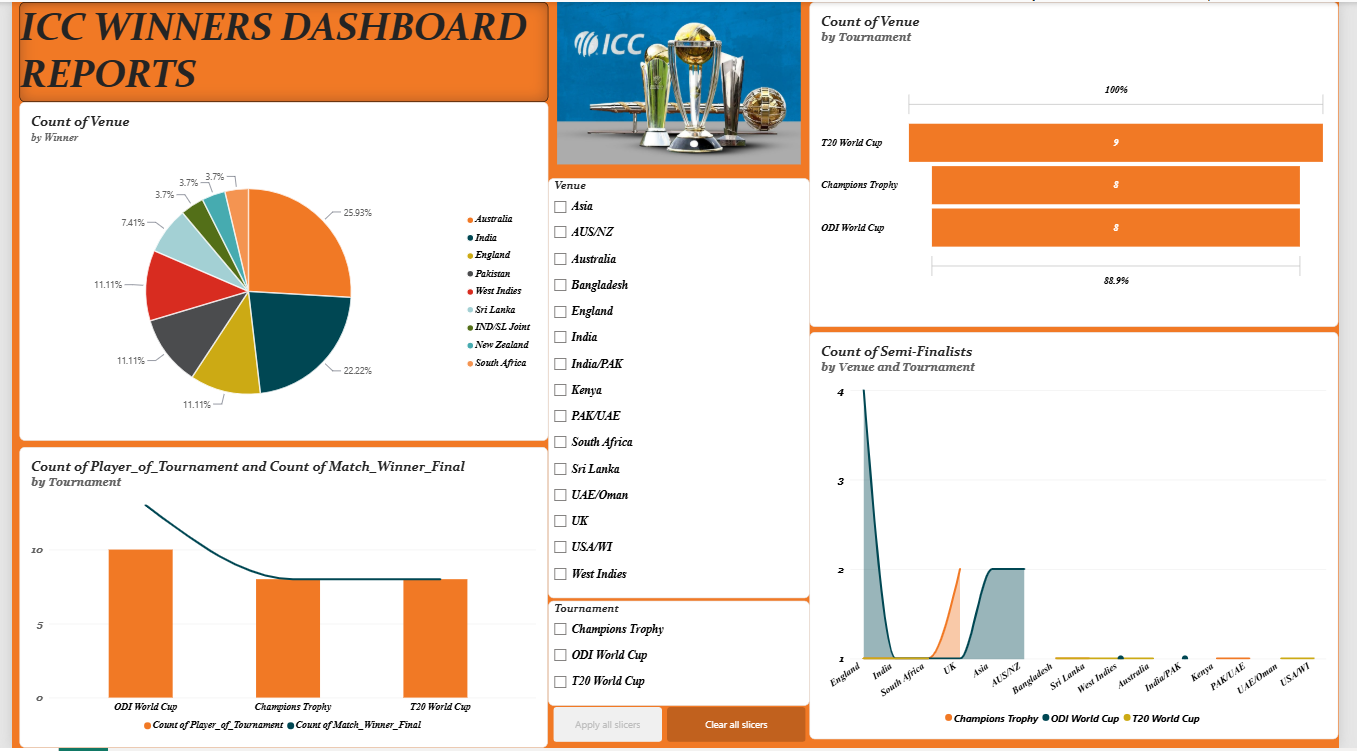

What the dashboard file says about the page in this screenshot:
{"tool":"powerbi","page":{"name":"Page 1","canvas":[1920,1080],"ordinal":0},"visuals":[{"type":"textbox","box":[10.9,0,765.5,144.8],"z":0},{"type":"funnel","fields":{"Category":["Sheet1.Tournament"],"Y":["Count(Sheet1.Venue)"]},"box":[1154.6,0,765.5,470.5],"z":1000},{"type":"image","box":[776.3,0,378.2,235.3],"z":1001},{"type":"pieChart","fields":{"Category":["Sheet1.Winner"],"Y":["Count(Sheet1.Venue)"]},"box":[10.9,144.8,765.5,490.4],"z":1002},{"type":"lineStackedColumnComboChart","fields":{"Category":["Sheet1.Tournament"],"Y":["Count(Sheet1.Player_of_Tournament)"],"Y2":["Count(Sheet1.Match_Winner_Final)"]},"box":[11,645,765,435],"z":1003},{"type":"areaChart","fields":{"Category":["Sheet1.Venue"],"Series":["Sheet1.Tournament"],"Y":["CountNonNull(Sheet1.Semi-Finalists)"]},"box":[1154.5,477.8,765.5,589.9],"z":1004},{"type":"slicer","fields":{"Values":["Sheet1.Tournament"]},"box":[776.3,866.8,378.2,152],"z":1005},{"type":"slicer","fields":{"Values":["Sheet1.Venue"]},"box":[776.3,255.2,378.2,608],"z":1006},{"type":"actionButton","box":[783.6,1020.6,157.4,50.7],"z":1007},{"type":"actionButton","box":[948.3,1020.6,200.9,50.7],"z":1008}]}

Visuals, with their boxes in screenshot pixels (x1, y1, x2, y2), scaled from the page's 1920x1080 canvas onto the 1357x751 screenshot:
textbox: bbox=[8, 0, 549, 101]
funnel - Sheet1.Tournament x Count(Sheet1.Venue): bbox=[816, 0, 1356, 327]
image: bbox=[549, 0, 816, 164]
pieChart - Sheet1.Winner x Count(Sheet1.Venue): bbox=[8, 101, 549, 442]
lineStackedColumnComboChart - Sheet1.Tournament x Count(Sheet1.Player_of_Tournament): bbox=[8, 449, 548, 750]
areaChart - Sheet1.Venue x Sheet1.Tournament: bbox=[816, 332, 1356, 742]
slicer - Sheet1.Tournament: bbox=[549, 603, 816, 708]
slicer - Sheet1.Venue: bbox=[549, 177, 816, 600]
actionButton: bbox=[554, 710, 665, 745]
actionButton: bbox=[670, 710, 812, 745]
